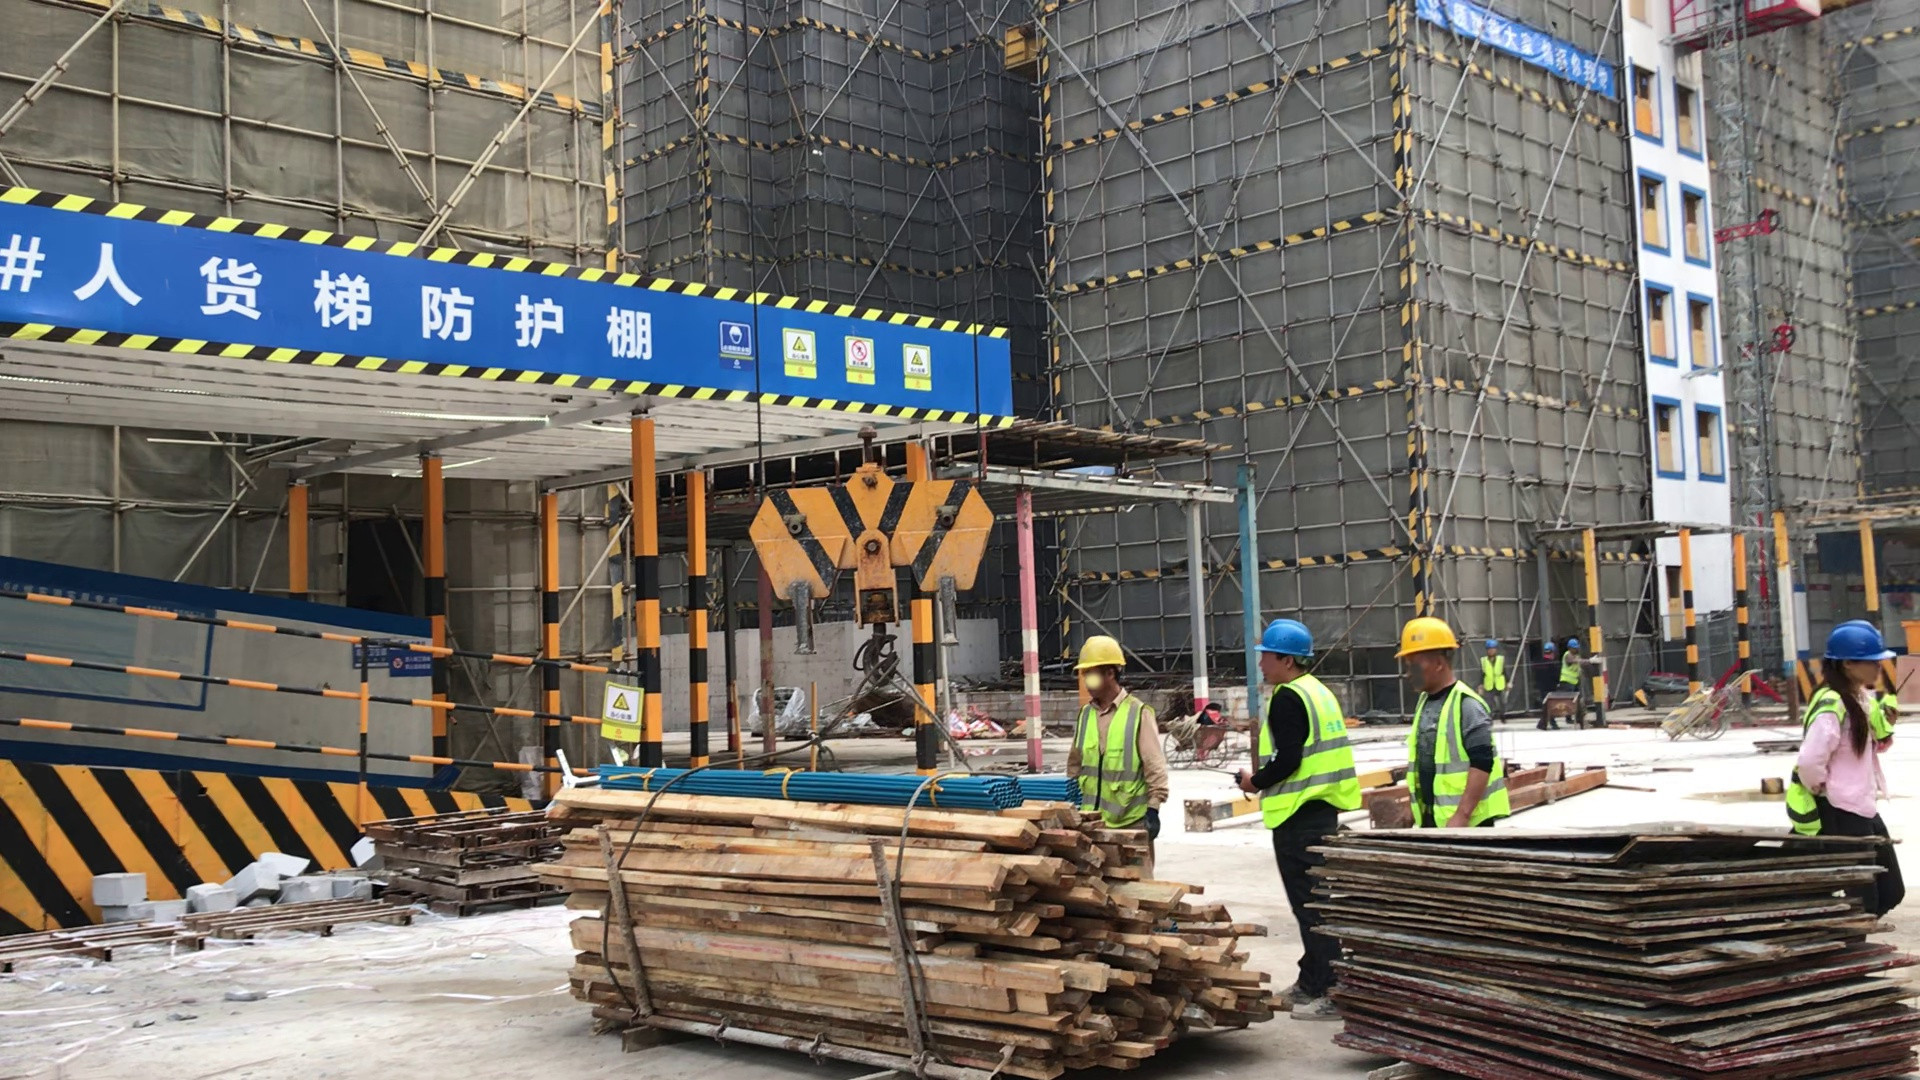helmet: (1824, 618, 1891, 664), (1396, 615, 1460, 654), (1254, 618, 1314, 659), (1073, 634, 1127, 668), (1484, 639, 1498, 649), (1567, 639, 1579, 649), (1544, 642, 1553, 651)
person: (1235, 612, 1351, 1023), (1383, 614, 1513, 832), (1779, 617, 1903, 841), (1064, 632, 1172, 865), (1475, 638, 1509, 724), (1534, 641, 1556, 731), (1558, 635, 1584, 689)
vest: (1409, 688, 1507, 837), (1256, 673, 1349, 822), (1071, 694, 1151, 829), (1478, 652, 1506, 693), (1558, 649, 1582, 686)
